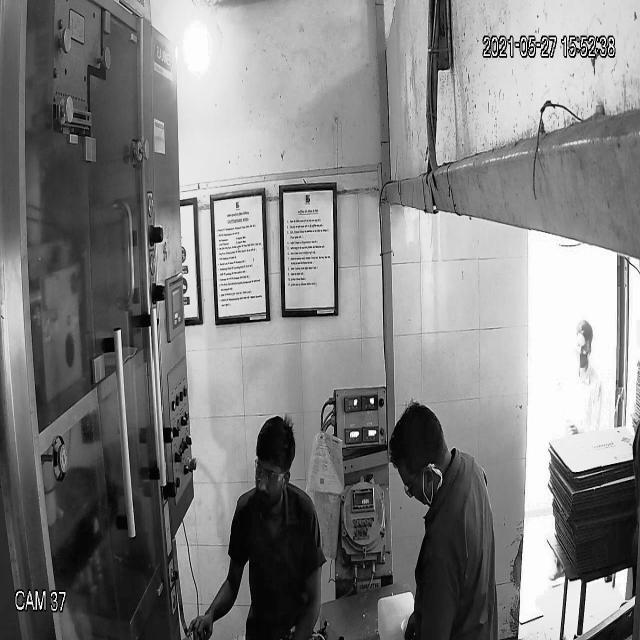glasses: (252, 453, 291, 487)
